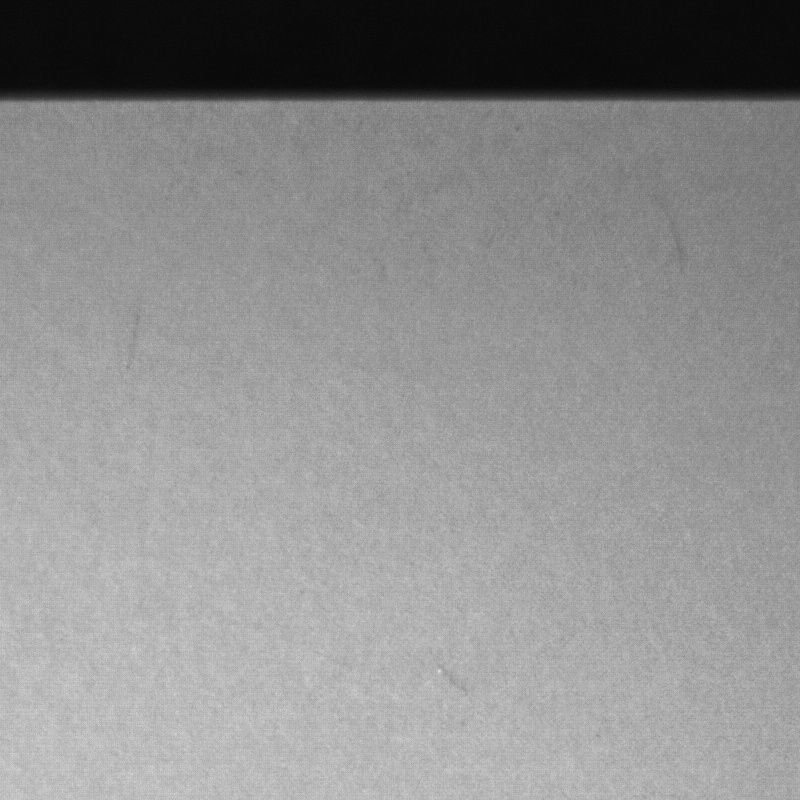defect: (664, 213, 692, 282), (429, 661, 468, 690), (121, 314, 136, 376)
